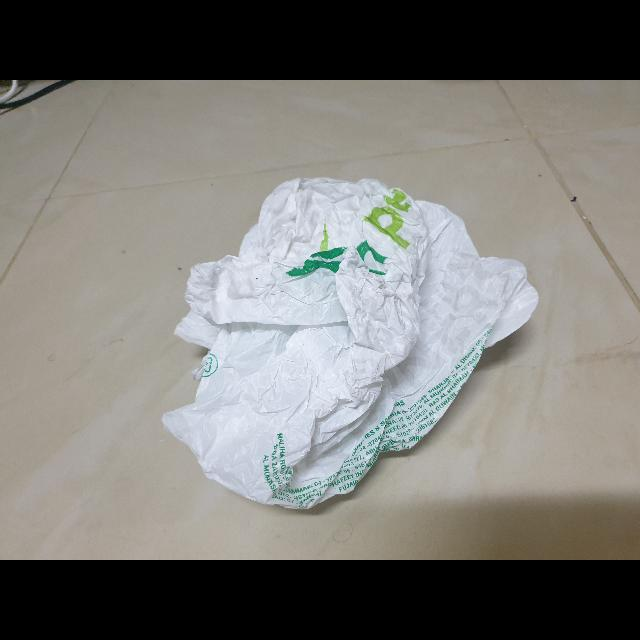plastic_bag: (147, 168, 553, 530)
